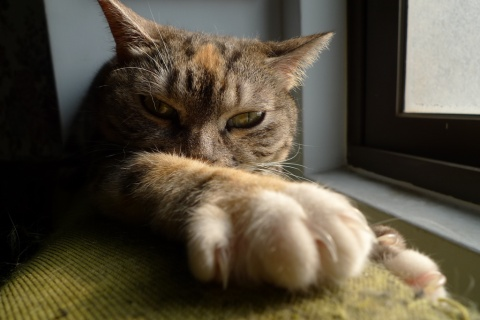Cat: (50, 0, 452, 299)
